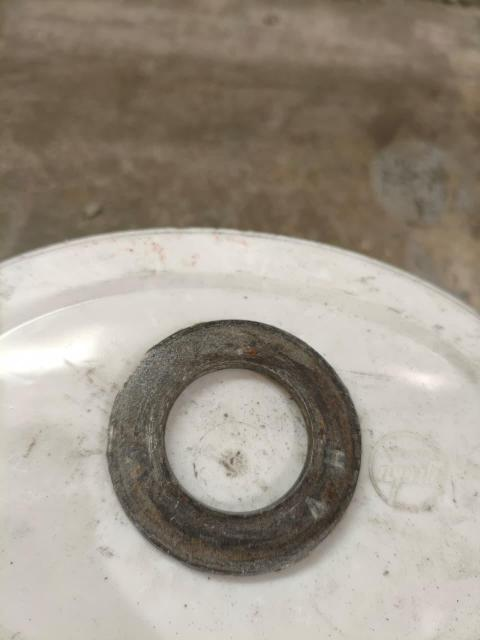Metal: (100, 318, 365, 572)
